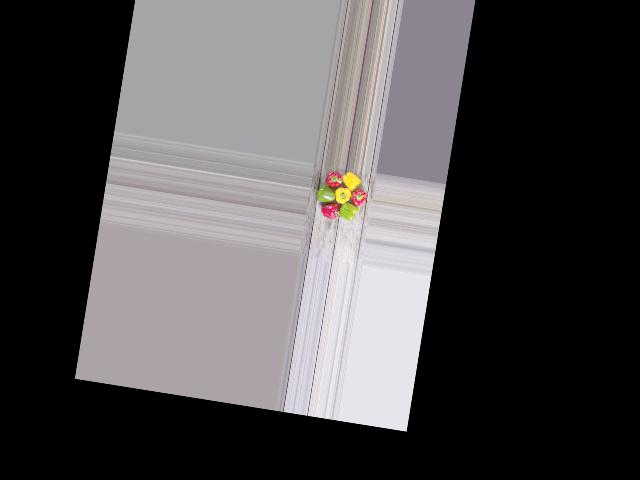bell_pepper: (325, 166, 347, 189)
